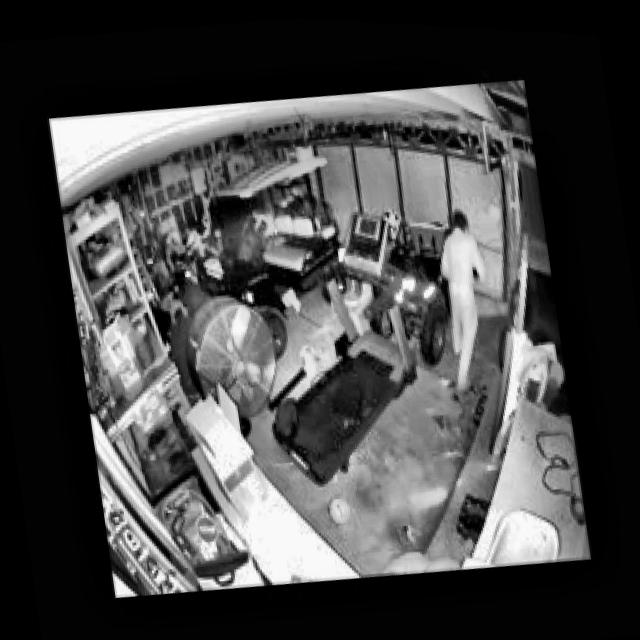burglary: (414, 182, 568, 403)
